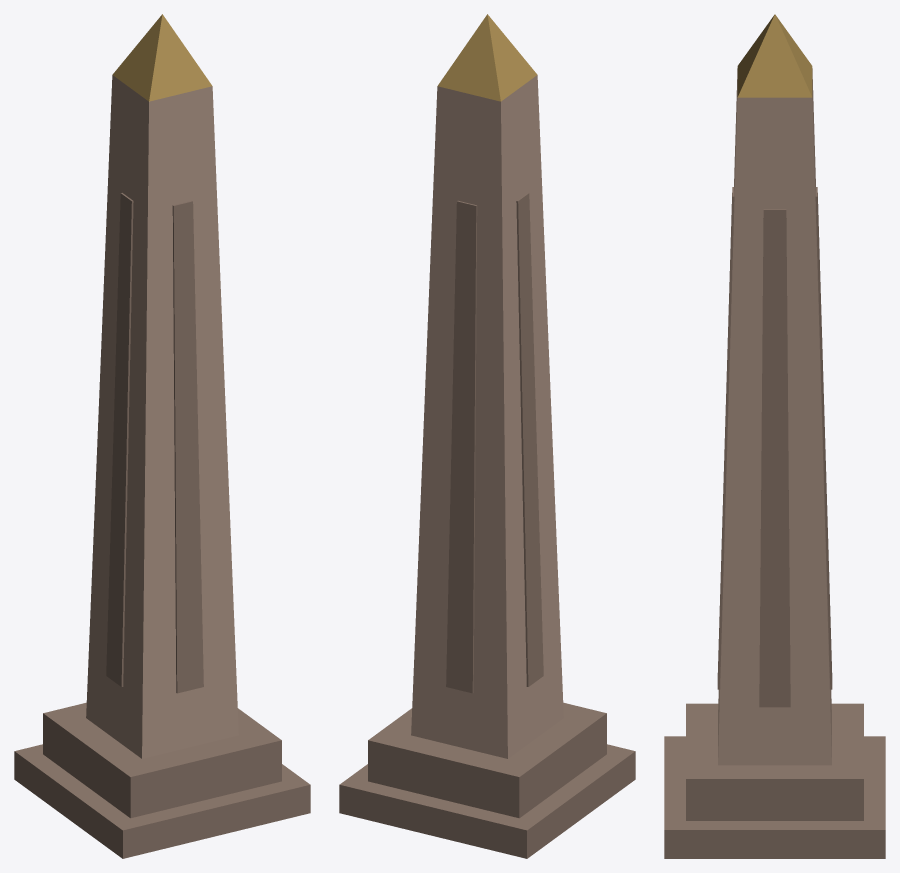
The model's file is obelisk.glb.
The picture shows the model from 3 angles, left to right: view 1: azimuth 30°, elevation 25°; view 2: azimuth 150°, elevation 25°; view 3: azimuth 270°, elevation 25°; orthographic projection. The views are drawn at different scales.
Parts seen in each view (by area): view 1: obelisk; view 2: obelisk; view 3: obelisk.
Boxes of the visible parts, bbox=[...] form: obelisk: bbox=[14, 14, 310, 858]; obelisk: bbox=[339, 14, 635, 858]; obelisk: bbox=[664, 14, 885, 858].
Size of the model in its own units: 3.1 by 12.35 by 3.1.
